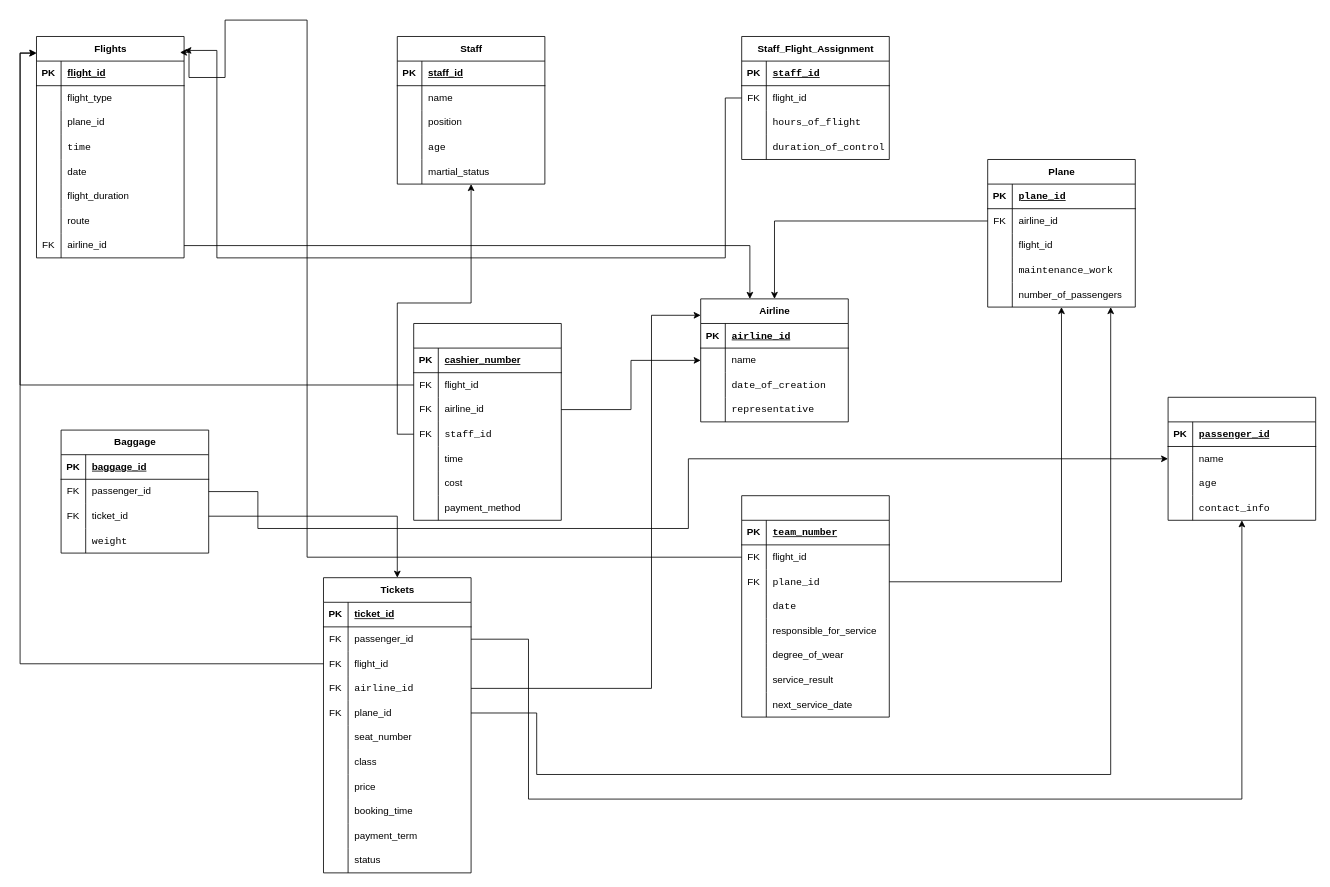
The diagram is 1330 pixels wide and 887 high, and some of its shapes have lost their labels. Each missing label, with the box of its shape:
Cashbox: (413, 323, 561, 520)
Maintenance: (741, 495, 889, 717)
Passengers: (1167, 396, 1316, 520)
